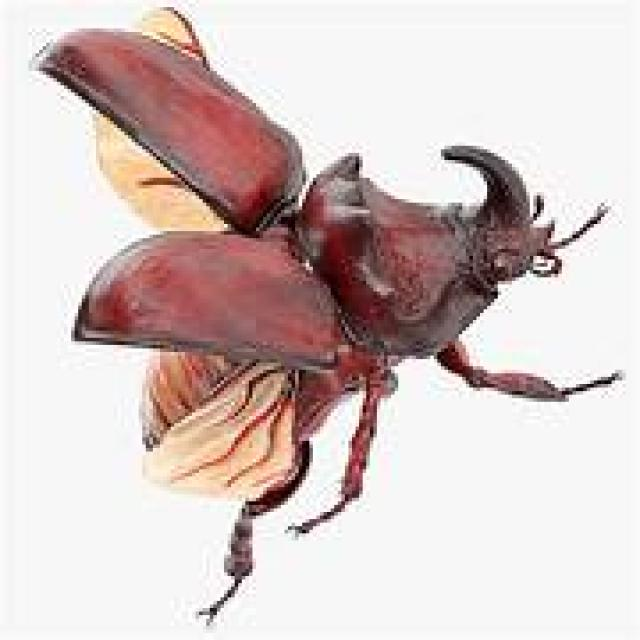Rhino-beetle: (20, 14, 632, 603)
